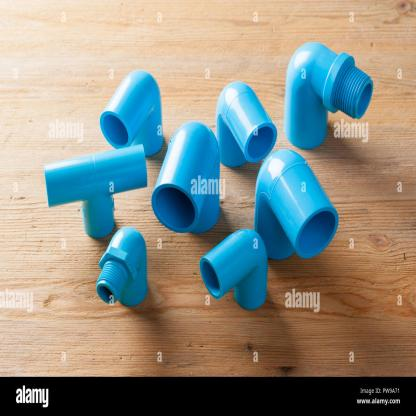PVC: (198, 146, 340, 310), (43, 68, 166, 245), (282, 37, 374, 152), (151, 118, 223, 235), (216, 78, 280, 169), (95, 221, 149, 308)
